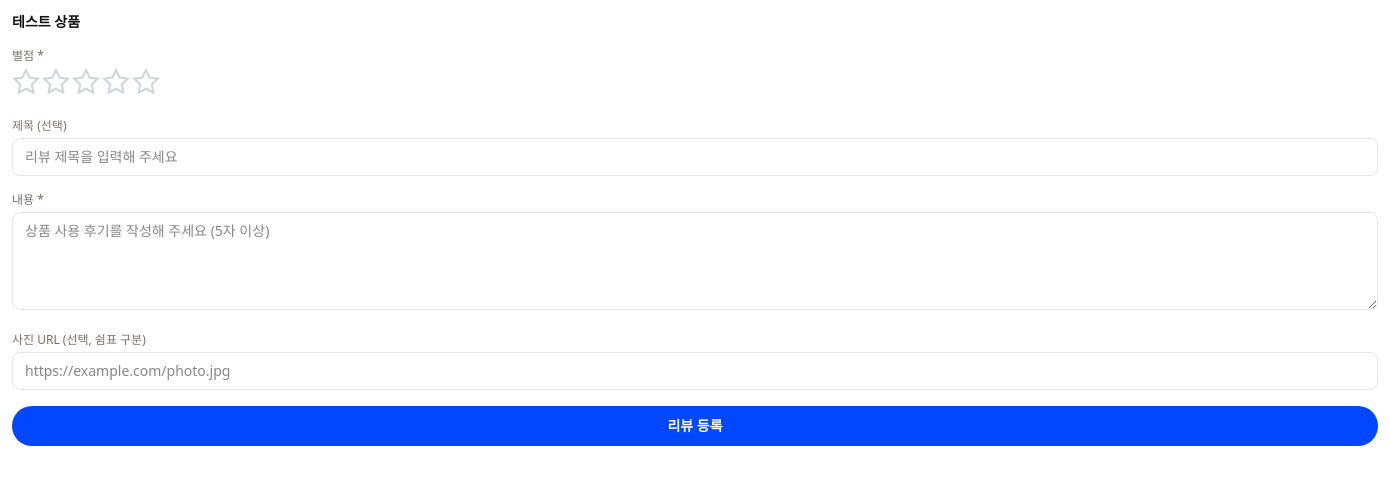
Test: ReviewForm › 별점 없이 제출하면 에러를 표시한다
Step 1. Type "충분한 내용입니다" into the text box labelled "내용 *" → (695, 261), box [12,212,1378,310]
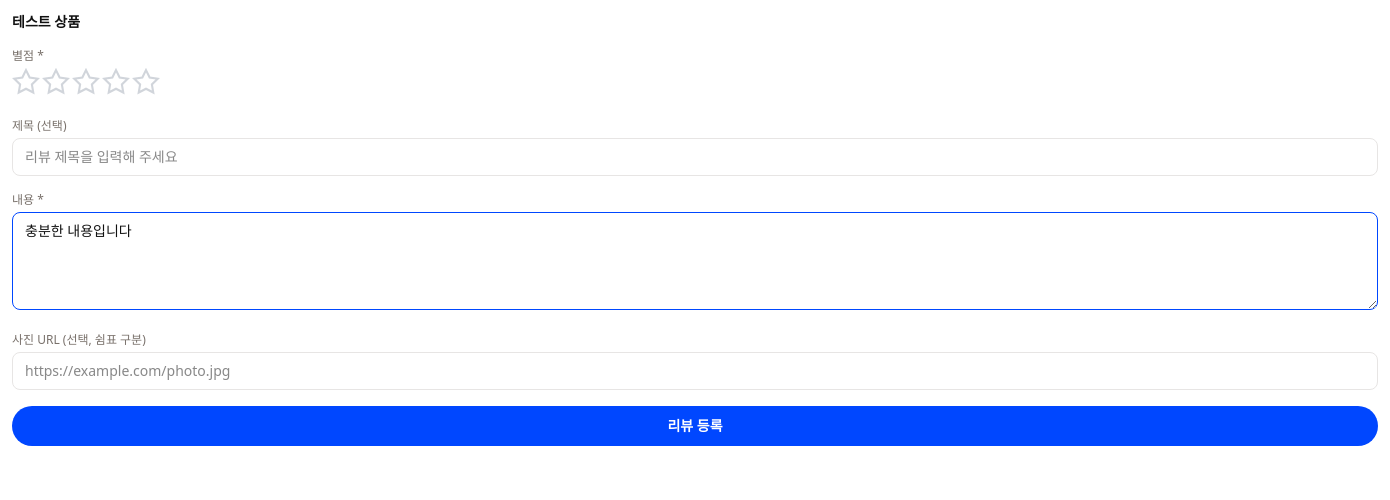
Step 2. Click the button "리뷰 등록" → (695, 426), box [12,406,1378,446]
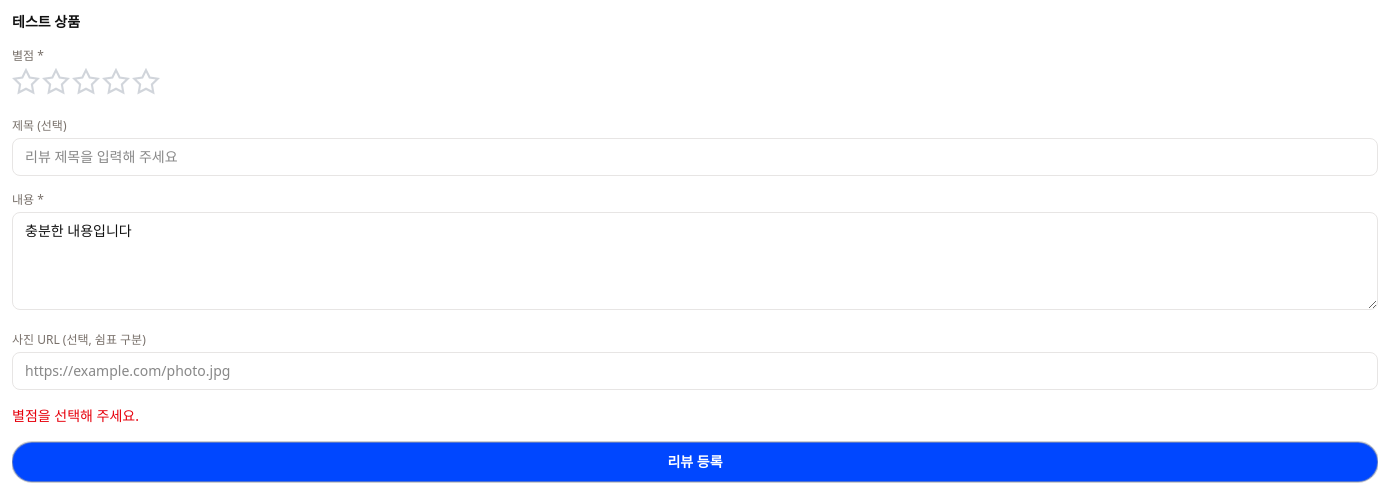
Now the message shows "별점을 선택해 주세요", box [12,406,139,425]
